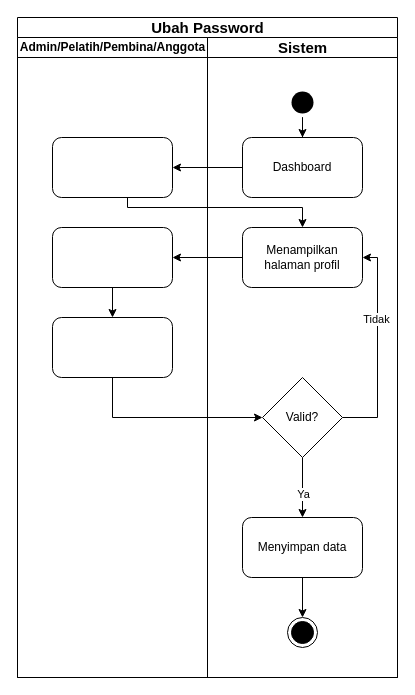
Image size: 415x695. Some labels were removed from this diagram. Each missing label, with the box of its shape:
Memilih menu profil: (52, 136, 172, 198)
Menekan tombol ubah password: (52, 316, 172, 378)
Mengisi form input ubah password: (52, 226, 172, 288)
